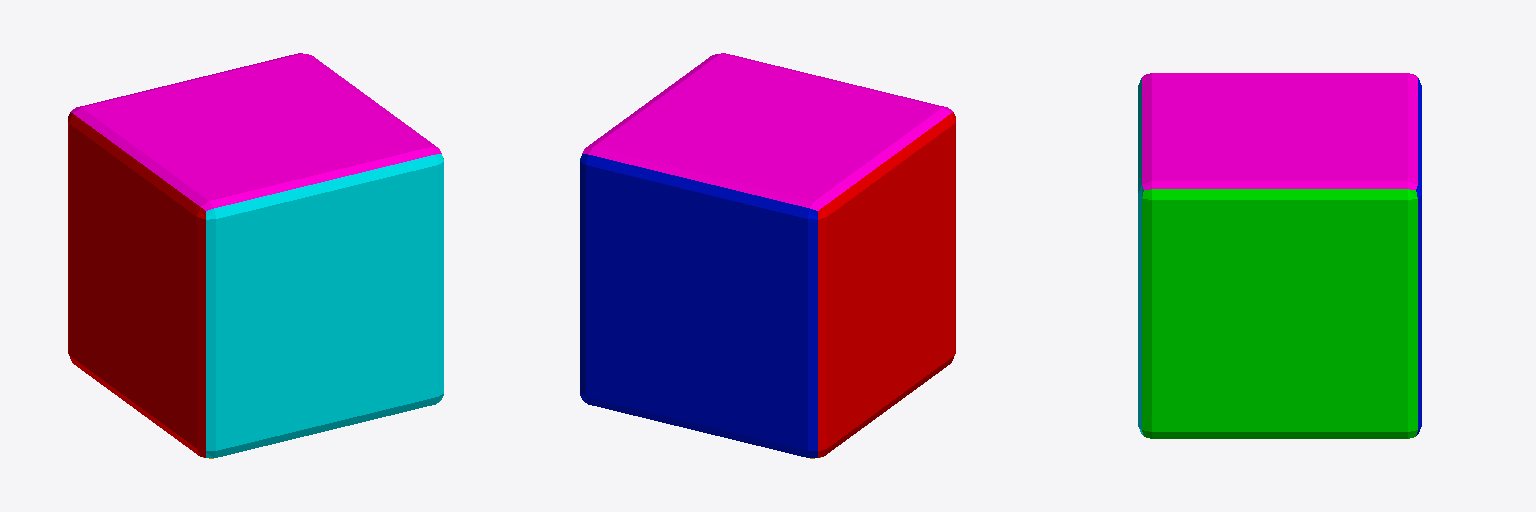
3 renders of one model, left to right at view 1: azimuth 30°, elevation 25°; view 2: azimuth 150°, elevation 25°; view 3: azimuth 270°, elevation 25°, orthographic.
Parts seen in each view (by area): view 1: cube Left, cube Back, cube Up; view 2: cube Right, cube Back, cube Up; view 3: cube Front, cube Up, cube Left, cube Right.
Boxes of the visible parts, <box> form: cube Left: <box>206,154,443,457</box>; cube Back: <box>68,112,205,457</box>; cube Up: <box>71,53,441,210</box>; cube Right: <box>580,154,817,457</box>; cube Back: <box>818,112,955,457</box>; cube Up: <box>582,53,952,210</box>; cube Front: <box>1142,189,1417,438</box>; cube Up: <box>1142,73,1417,189</box>; cube Left: <box>1138,78,1143,435</box>; cube Right: <box>1416,78,1421,435</box>.
Size of the model in its own units: 1 by 1 by 1.